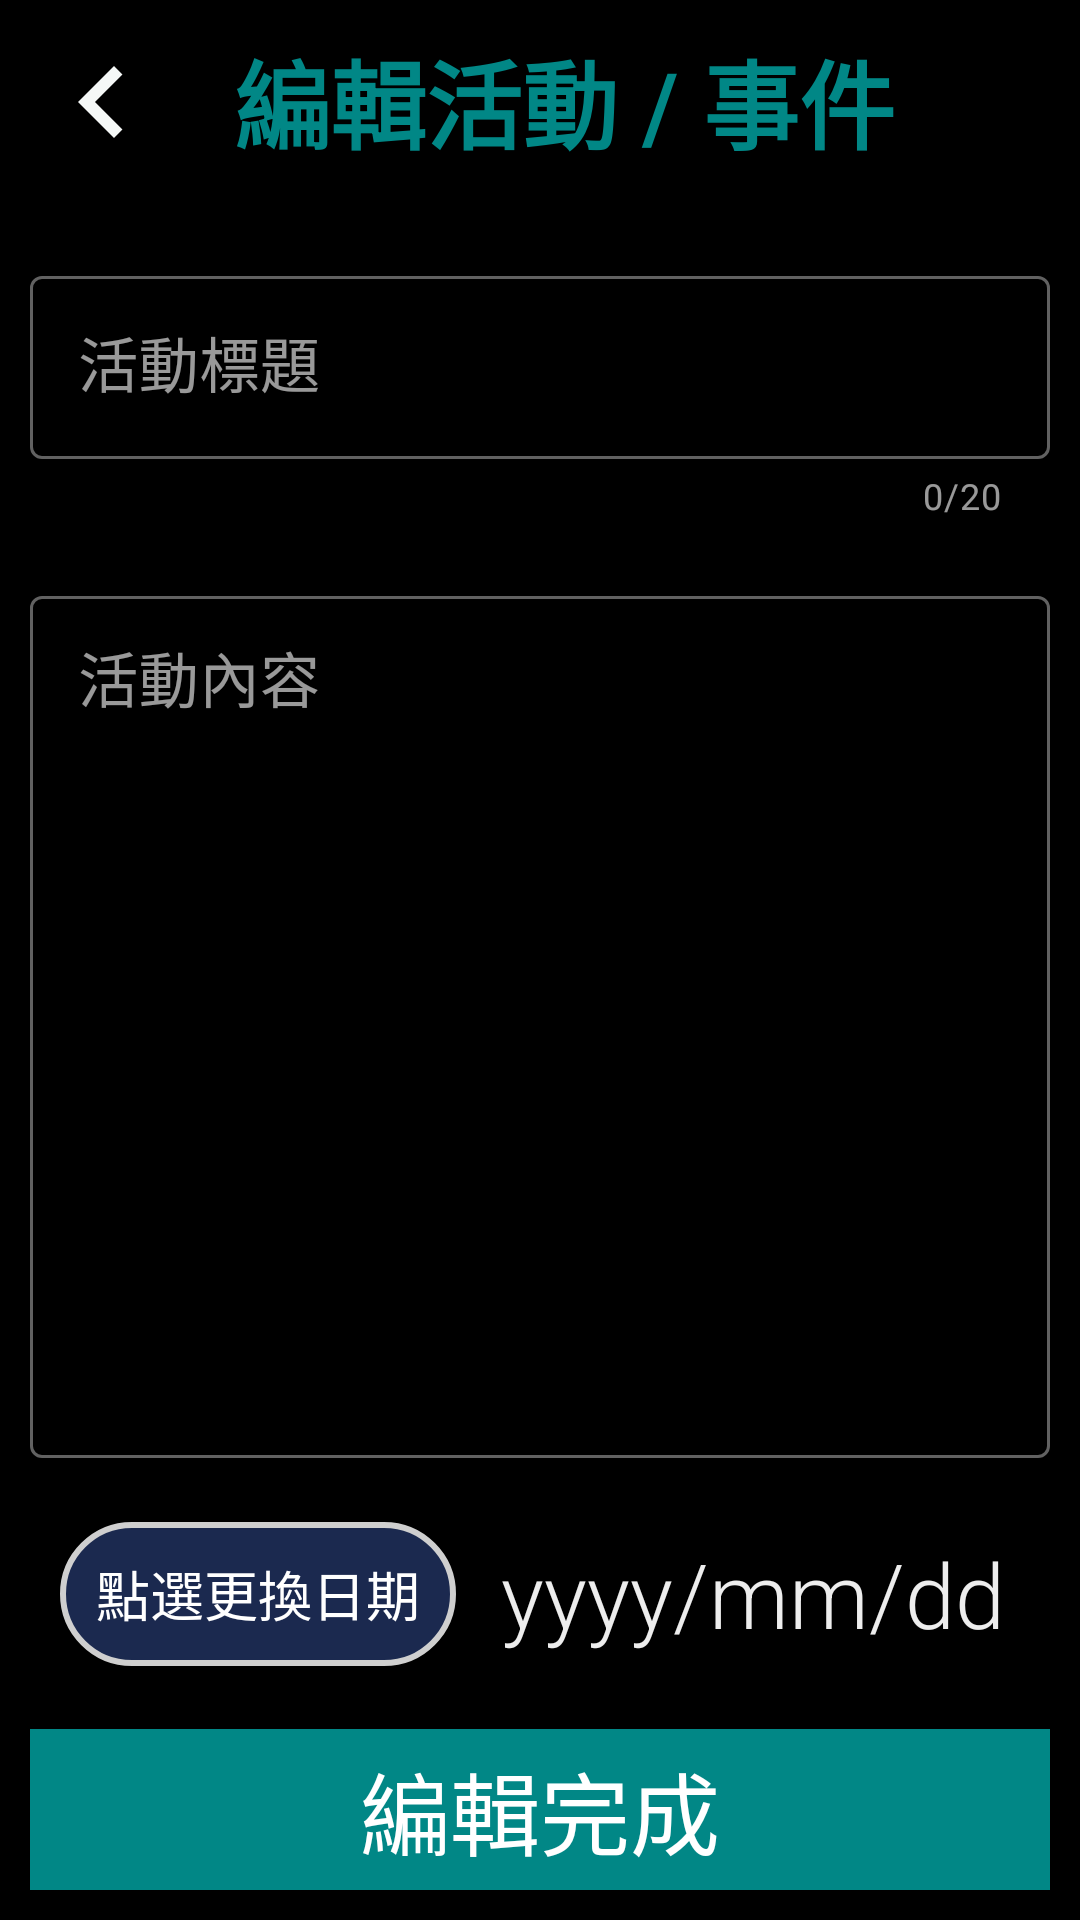

Where to tap for icons on this 1080w x 1920h app screen, as point (x, y):
keyboard arrow left: point (100, 102)
